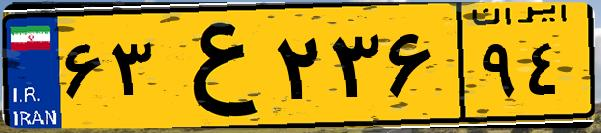2: (270, 28, 330, 110)
3: (330, 28, 385, 110), (110, 28, 158, 98)
4: (525, 38, 570, 115)
6: (385, 28, 445, 110), (57, 26, 110, 100)
9: (475, 38, 525, 113)
ع: (158, 12, 270, 120)
